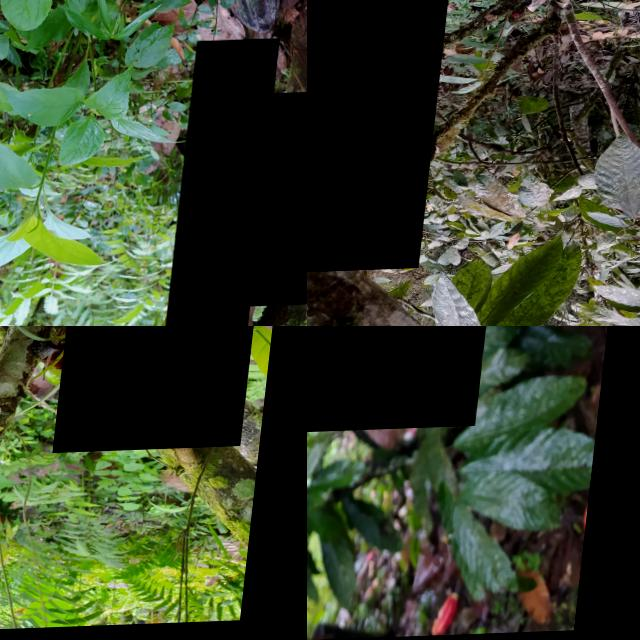Fitoftora: (307, 0, 460, 275), (175, 41, 283, 326), (255, 93, 307, 309)
Monilia: (307, 326, 503, 440)
Sana: (63, 326, 269, 455)
